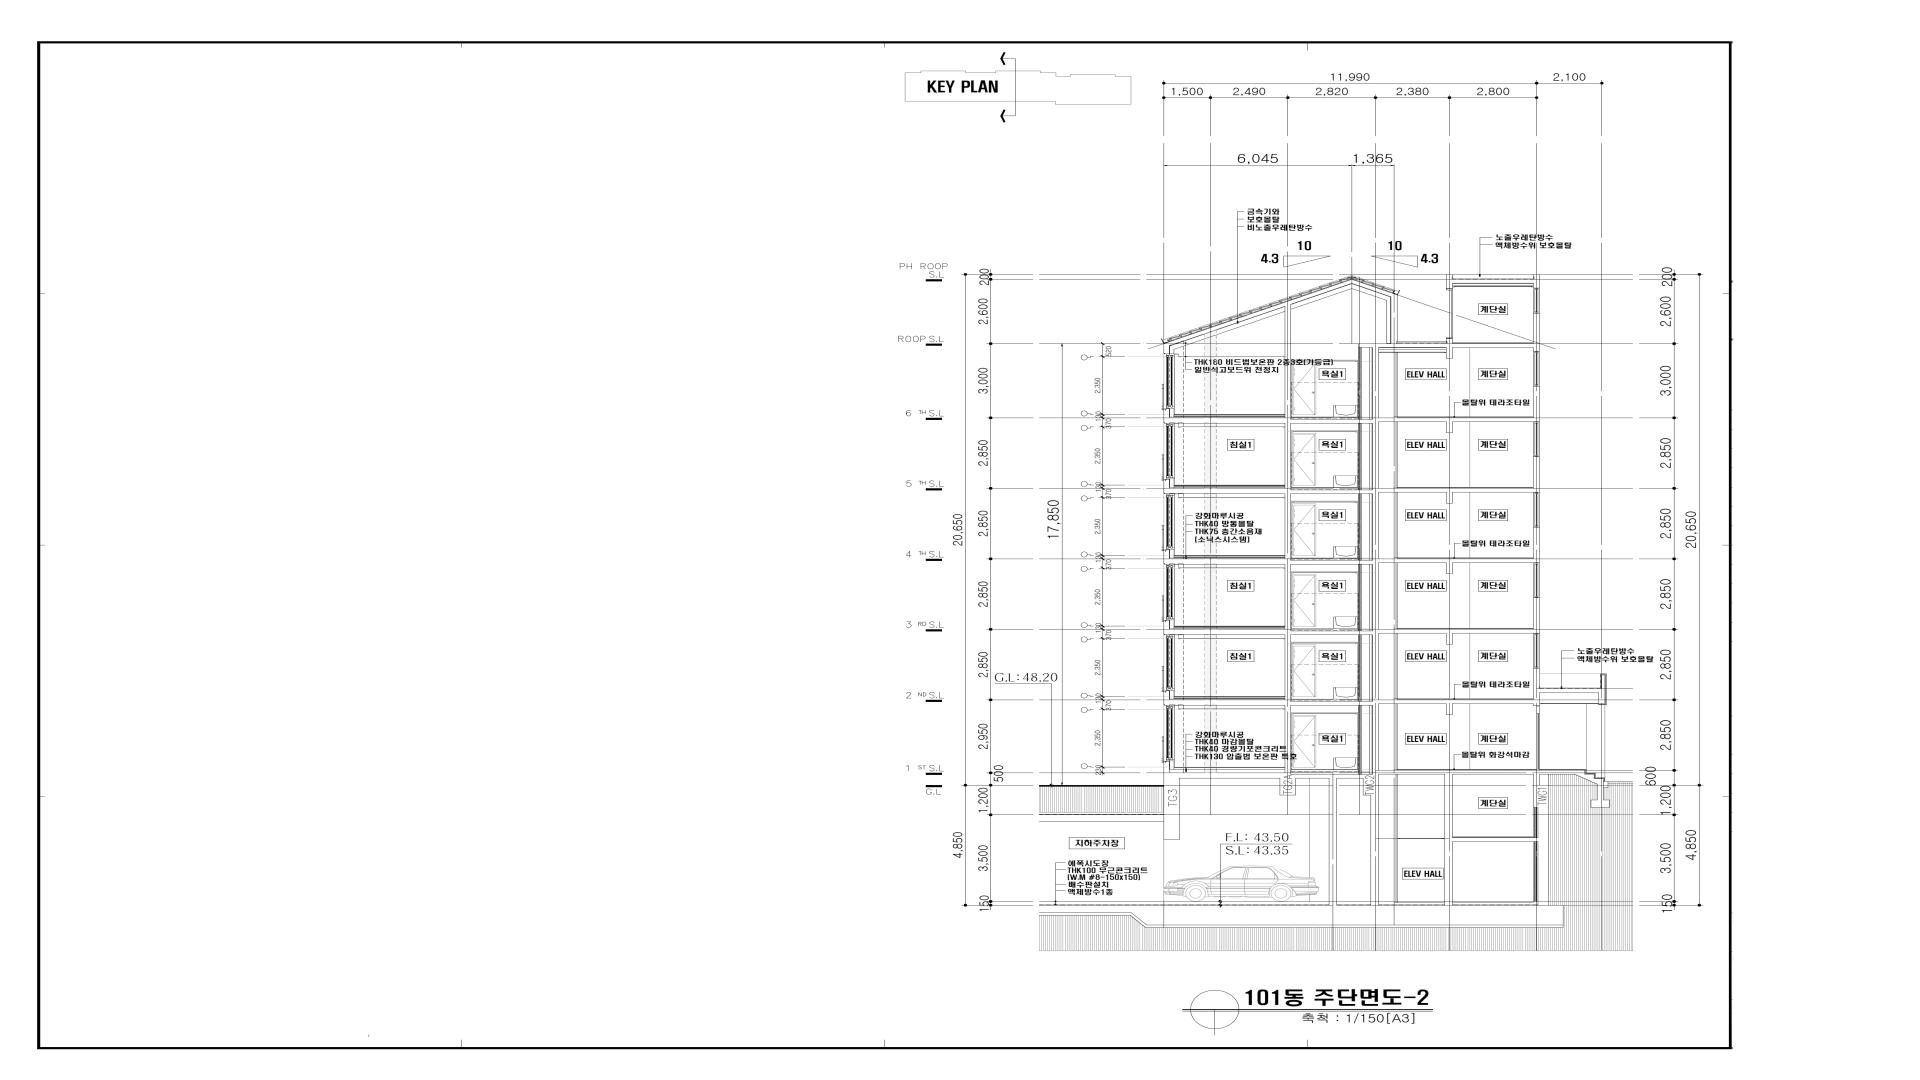door: (1292, 715, 1316, 768), (1293, 433, 1316, 486), (1293, 574, 1316, 627), (1293, 363, 1316, 415), (1293, 504, 1316, 556), (1293, 645, 1316, 697), (1446, 289, 1453, 339), (1536, 714, 1540, 771)
wall: (1163, 279, 1397, 354), (1163, 668, 1540, 706), (1164, 386, 1540, 423), (1163, 457, 1539, 494), (1164, 527, 1540, 564), (1164, 598, 1540, 635), (1039, 905, 1563, 925), (1164, 761, 1585, 779), (1533, 774, 1549, 905), (1539, 674, 1606, 705), (1363, 778, 1379, 905), (1039, 812, 1164, 822), (1444, 774, 1453, 905), (1329, 778, 1337, 905), (1164, 778, 1180, 840), (1358, 344, 1533, 348), (1285, 304, 1291, 418), (1372, 347, 1379, 418), (1372, 493, 1379, 559), (1372, 564, 1379, 630), (1372, 423, 1379, 488), (1372, 635, 1379, 700), (1372, 705, 1379, 770), (1285, 705, 1291, 773), (1452, 279, 1533, 284), (1285, 493, 1291, 559), (1285, 564, 1291, 630), (1285, 423, 1291, 488), (1285, 635, 1291, 700), (1453, 838, 1538, 842), (1280, 778, 1296, 795), (1533, 313, 1540, 351), (1358, 347, 1361, 419), (1358, 705, 1361, 775), (1394, 492, 1397, 559), (1394, 563, 1397, 630), (1394, 633, 1397, 700), (1358, 423, 1361, 490), (1358, 564, 1361, 631), (1358, 635, 1361, 701), (1394, 352, 1397, 418), (1394, 422, 1397, 488), (1394, 704, 1397, 770), (1358, 494, 1361, 560), (1534, 841, 1537, 902), (1446, 274, 1453, 289), (1533, 274, 1540, 288), (1534, 807, 1537, 838), (1446, 704, 1453, 715), (1446, 348, 1453, 359), (1446, 422, 1453, 433), (1446, 492, 1453, 503), (1446, 563, 1453, 574), (1446, 633, 1453, 644), (1446, 339, 1453, 344), (1536, 706, 1540, 714)
window: (1163, 705, 1174, 761), (1164, 354, 1175, 409), (1164, 423, 1174, 479), (1164, 494, 1174, 550), (1164, 564, 1174, 620), (1164, 635, 1174, 691), (1533, 351, 1540, 386), (1533, 422, 1540, 457), (1533, 492, 1539, 527), (1533, 563, 1539, 598), (1533, 633, 1539, 668), (1533, 288, 1540, 313)
